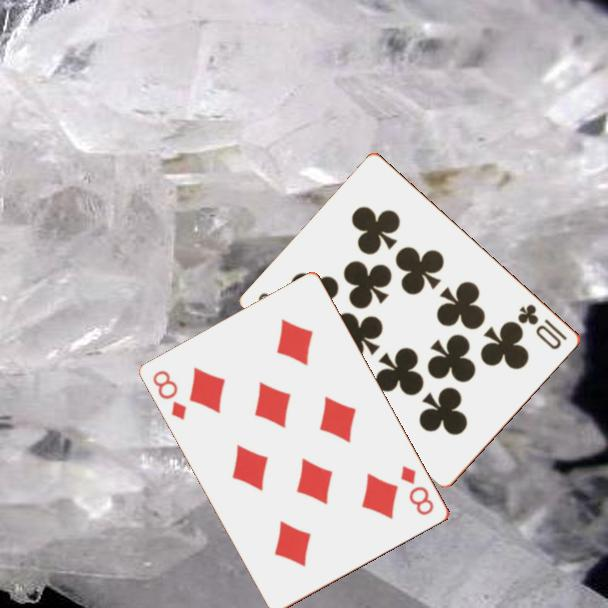c10: (515, 300, 571, 353)
d08: (149, 367, 190, 423), (397, 462, 437, 518)
